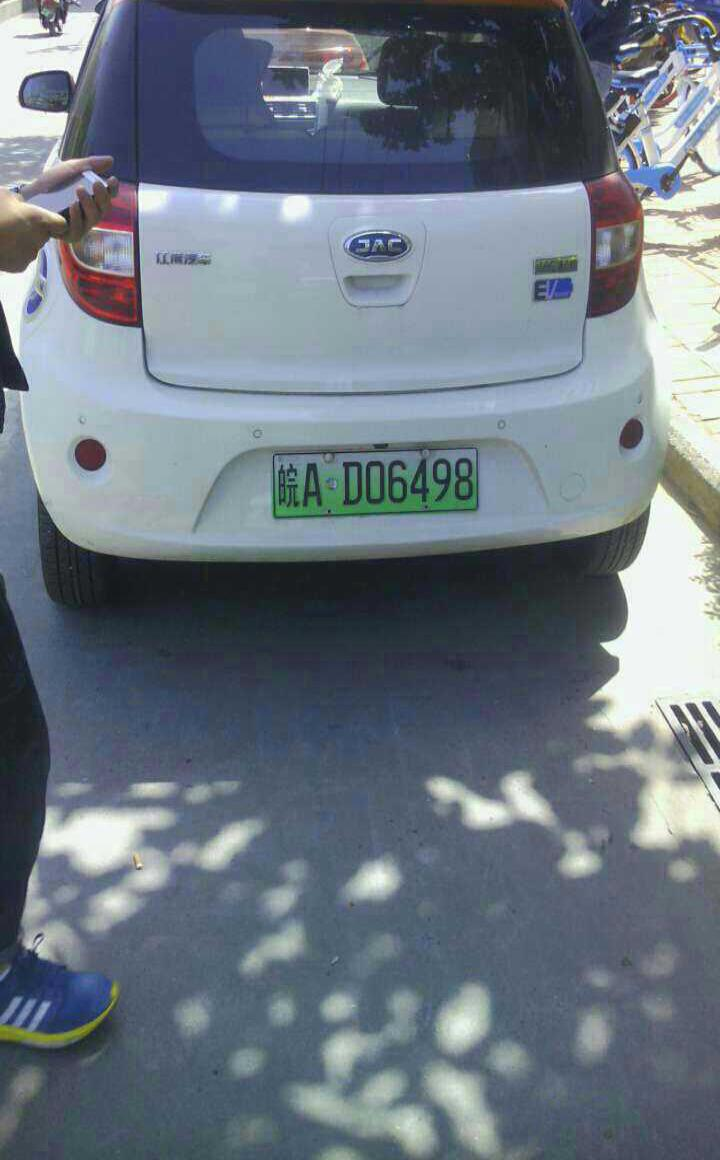car_green: (274, 452, 477, 511)
